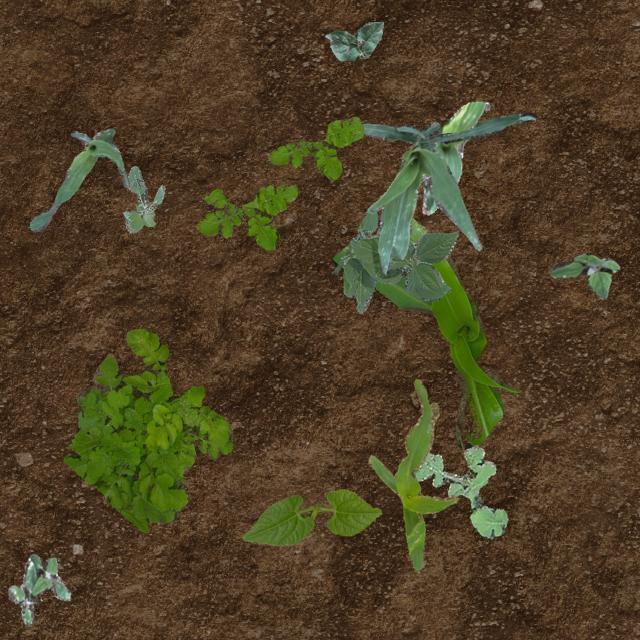crop: (332, 216, 518, 448), (360, 112, 536, 274), (368, 378, 458, 570), (332, 210, 457, 312), (28, 127, 128, 230), (242, 488, 381, 544), (422, 100, 489, 214), (324, 20, 382, 60)
weed: (62, 328, 232, 532), (412, 444, 507, 538), (196, 182, 296, 250), (266, 115, 362, 178), (6, 554, 70, 626), (550, 252, 618, 298), (122, 164, 164, 232)
